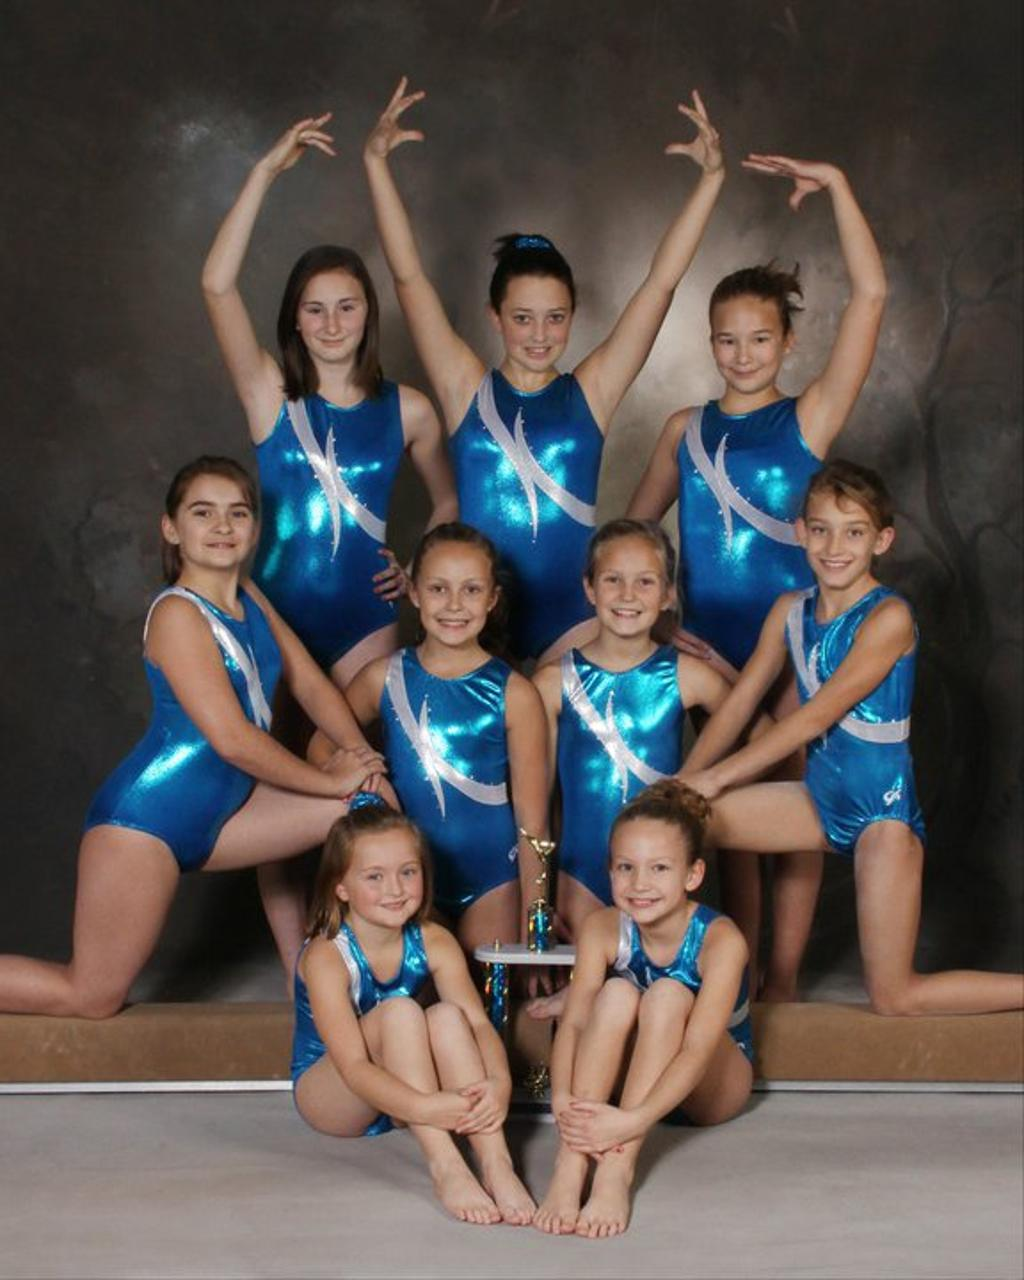face: (802, 472, 874, 587), (614, 817, 689, 919), (417, 547, 492, 644), (345, 834, 420, 926), (175, 472, 252, 559), (709, 290, 774, 390), (500, 275, 567, 370), (594, 539, 661, 631), (302, 267, 367, 357)
